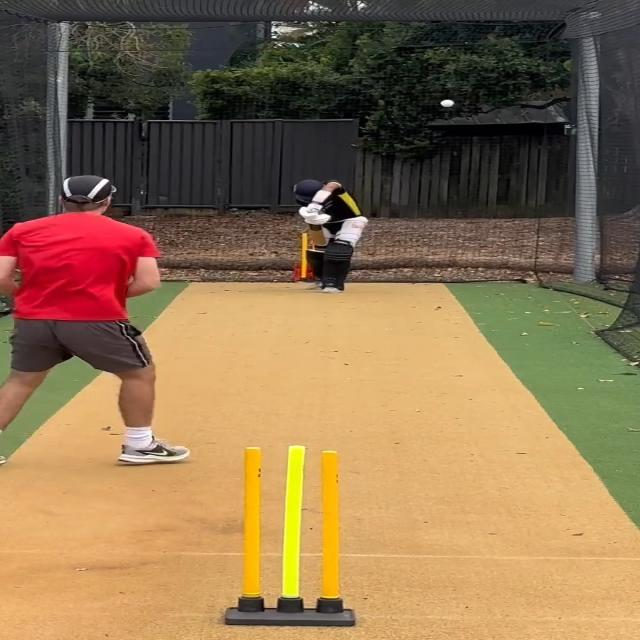ball: (440, 99, 455, 109)
stump: (226, 445, 355, 627)
